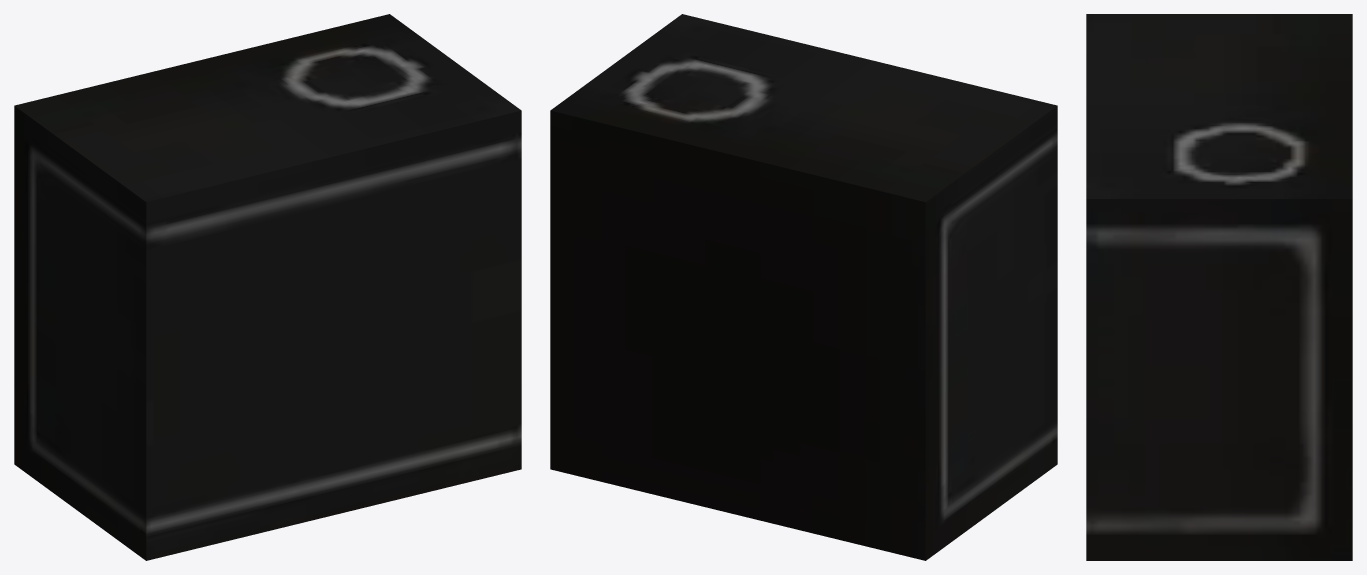
Rendered from frame__front_axle_block.glb.
3 views of the same model, side by side, from view 1: azimuth 30°, elevation 25°; view 2: azimuth 150°, elevation 25°; view 3: azimuth 270°, elevation 25° (orthographic).
Visible parts, largest first — view 1: world; view 2: world; view 3: world.
Part boxes in pixels (left/top/right/bottom): world: left=14, top=14, right=521, bottom=560; world: left=550, top=14, right=1057, bottom=560; world: left=1086, top=14, right=1352, bottom=560.
Size of the model in its own units: 0.115 by 0.105 by 0.07.
Materials: 1 (1 with a texture image).
